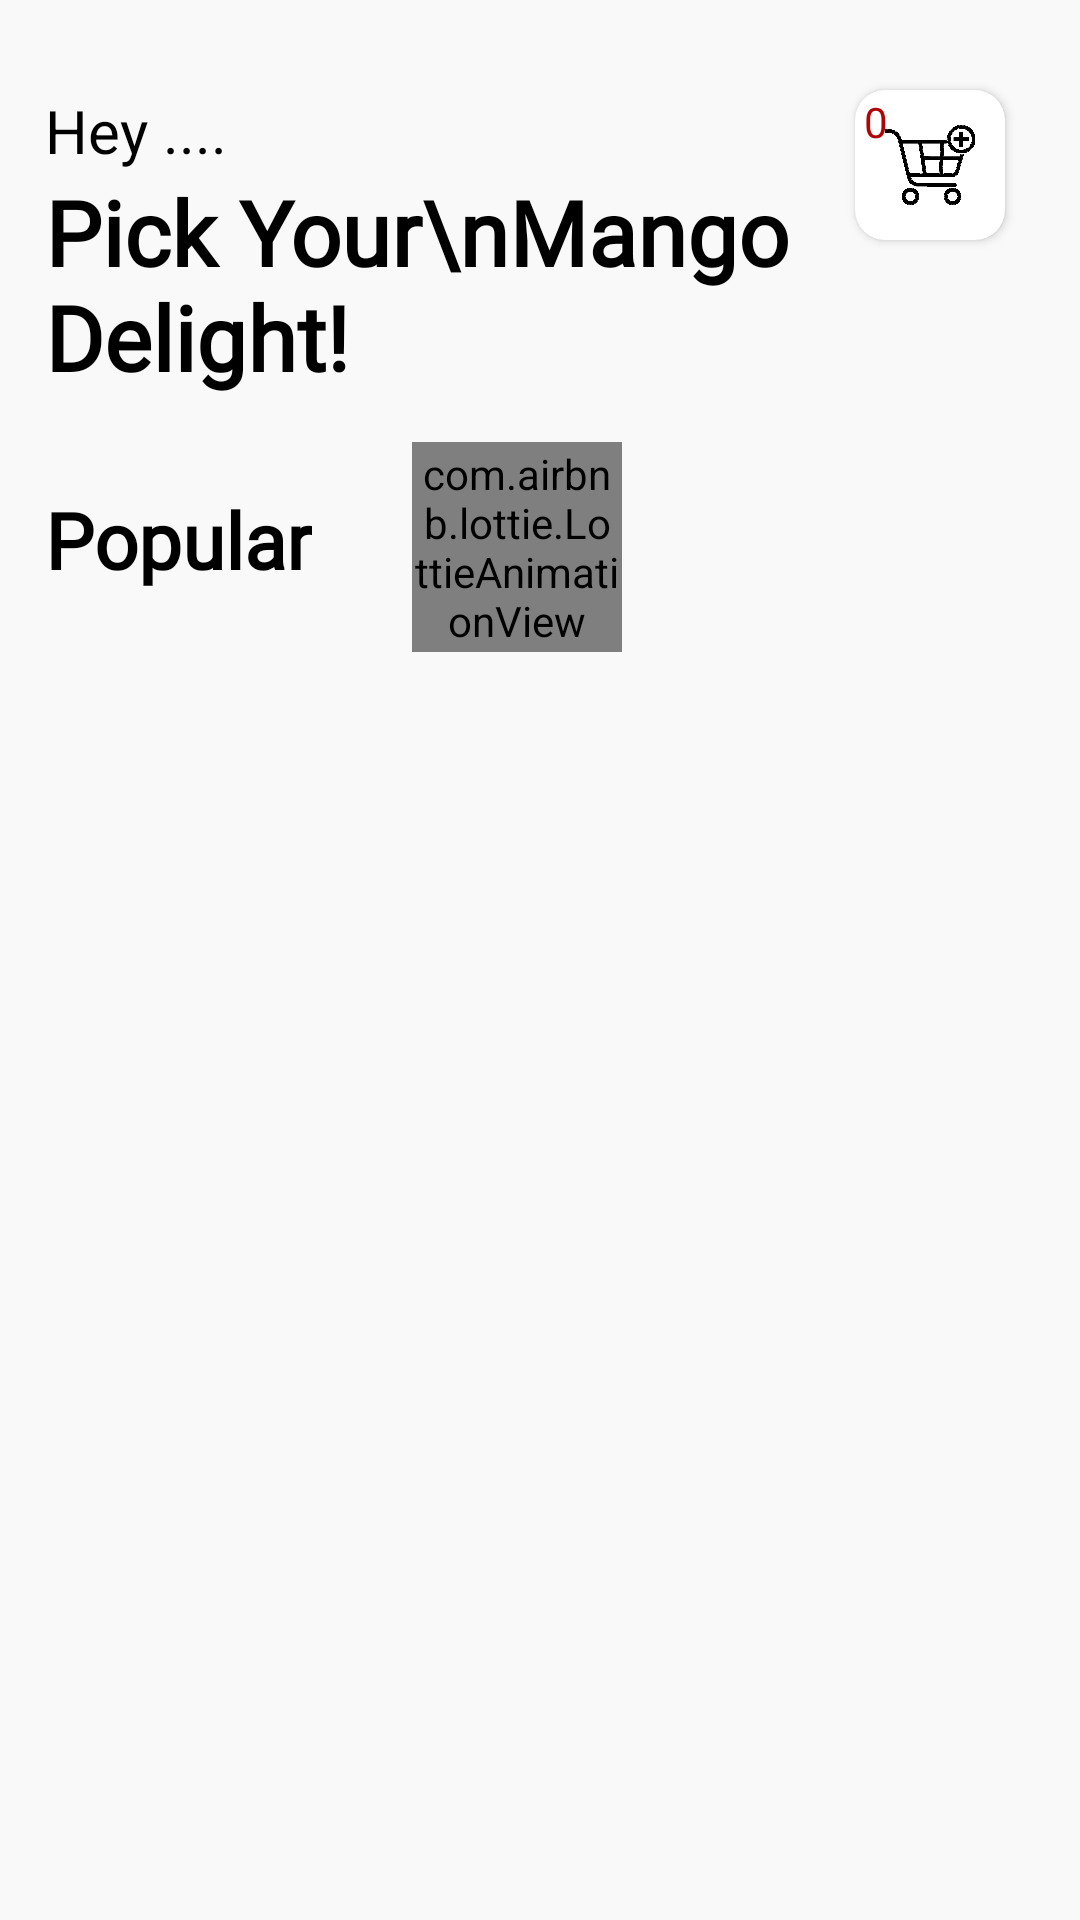

Icons on this 1080*1920 Android screen, each with its box as (x1,y1,x2,y2):
add to cart: (885,120,975,205)
